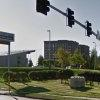Traffic light: (33, 2, 94, 38)
